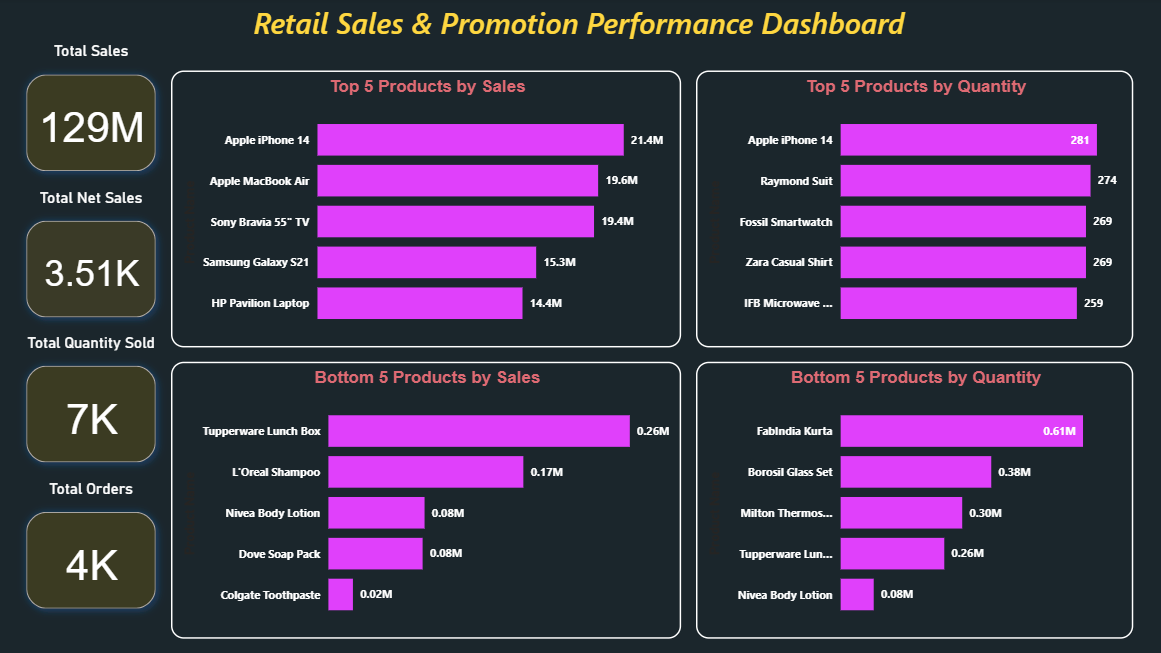

The dashboard page shown, as its layout file describes it:
{"tool":"powerbi","page":{"name":"Home","canvas":[1280,720],"ordinal":0},"visuals":[{"type":"textbox","box":[0,0,1280,96],"z":0},{"type":"cardVisual","title":"Total Sales","fields":{"Data":["Sum(Fact Table.Total Sales)"]},"box":[16,48,176,160],"z":1000},{"type":"cardVisual","title":"Total Orders","fields":{"Data":["Fact Table.Total Orders"]},"box":[16,528,176,160],"z":2000},{"type":"cardVisual","title":"Total Net Sales","fields":{"Data":["CountNonNull(Fact Table.Net Sales)"]},"box":[16,208,176,160],"z":3000},{"type":"cardVisual","title":"Total Quantity Sold","fields":{"Data":["Sum(Fact Table.Units Sold)"]},"box":[16,368,176,160],"z":4000},{"type":"barChart","title":"Bottom 5 Products by Sales","fields":{"Category":["Dim Product.Product Name"],"Y":["Sum(Fact Table.Net Sales)"]},"box":[192,400,560,304],"z":5000},{"type":"barChart","title":"Top 5 Products by Sales","fields":{"Category":["Dim Product.Product Name"],"Y":["Sum(Fact Table.Net Sales)"]},"box":[192,80,560,304],"z":6000},{"type":"barChart","title":"Top 5 Products by Quantity","fields":{"Category":["Dim Product.Product Name"],"Y":["Sum(Fact Table.Units Sold)"]},"box":[768,80,480,304],"z":7000},{"type":"barChart","title":"Bottom 5 Products by Quantity","fields":{"Category":["Dim Product.Product Name"],"Y":["Sum(Fact Table.Net Sales)"]},"box":[768,400,480,304],"z":8000}]}

Visuals, with their boxes in screenshot pixels (x1, y1, x2, y2), scaled from the page's 1280x720 canvas onto the 1161x653 screenshot:
textbox: region(0, 0, 1160, 87)
"Total Sales" cardVisual: region(15, 44, 174, 189)
"Total Orders" cardVisual: region(15, 479, 174, 624)
"Total Net Sales" cardVisual: region(15, 189, 174, 334)
"Total Quantity Sold" cardVisual: region(15, 334, 174, 479)
"Bottom 5 Products by Sales" barChart: region(174, 363, 682, 638)
"Top 5 Products by Sales" barChart: region(174, 73, 682, 348)
"Top 5 Products by Quantity" barChart: region(697, 73, 1132, 348)
"Bottom 5 Products by Quantity" barChart: region(697, 363, 1132, 638)
